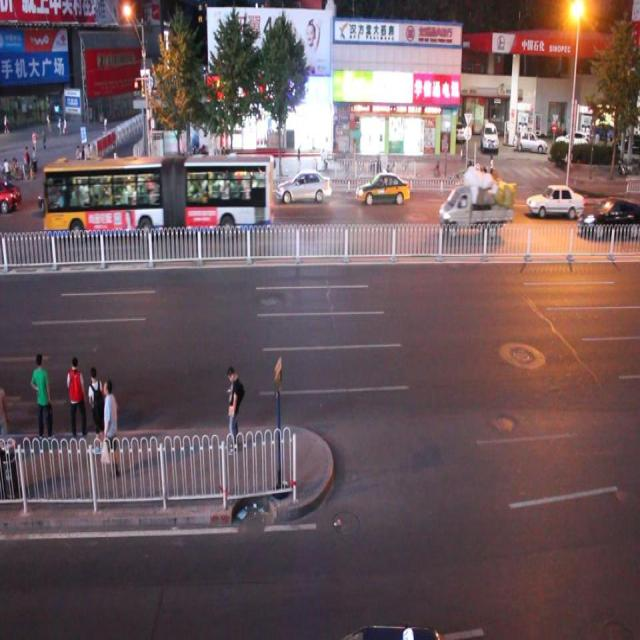bus: (438, 176, 514, 235)
car: (580, 198, 640, 242), (338, 620, 448, 640), (525, 182, 582, 219), (187, 168, 234, 209), (355, 173, 409, 206), (277, 170, 331, 202), (38, 182, 86, 214), (103, 170, 141, 207), (1, 175, 22, 214), (480, 120, 498, 151)
van: (42, 157, 274, 239)
